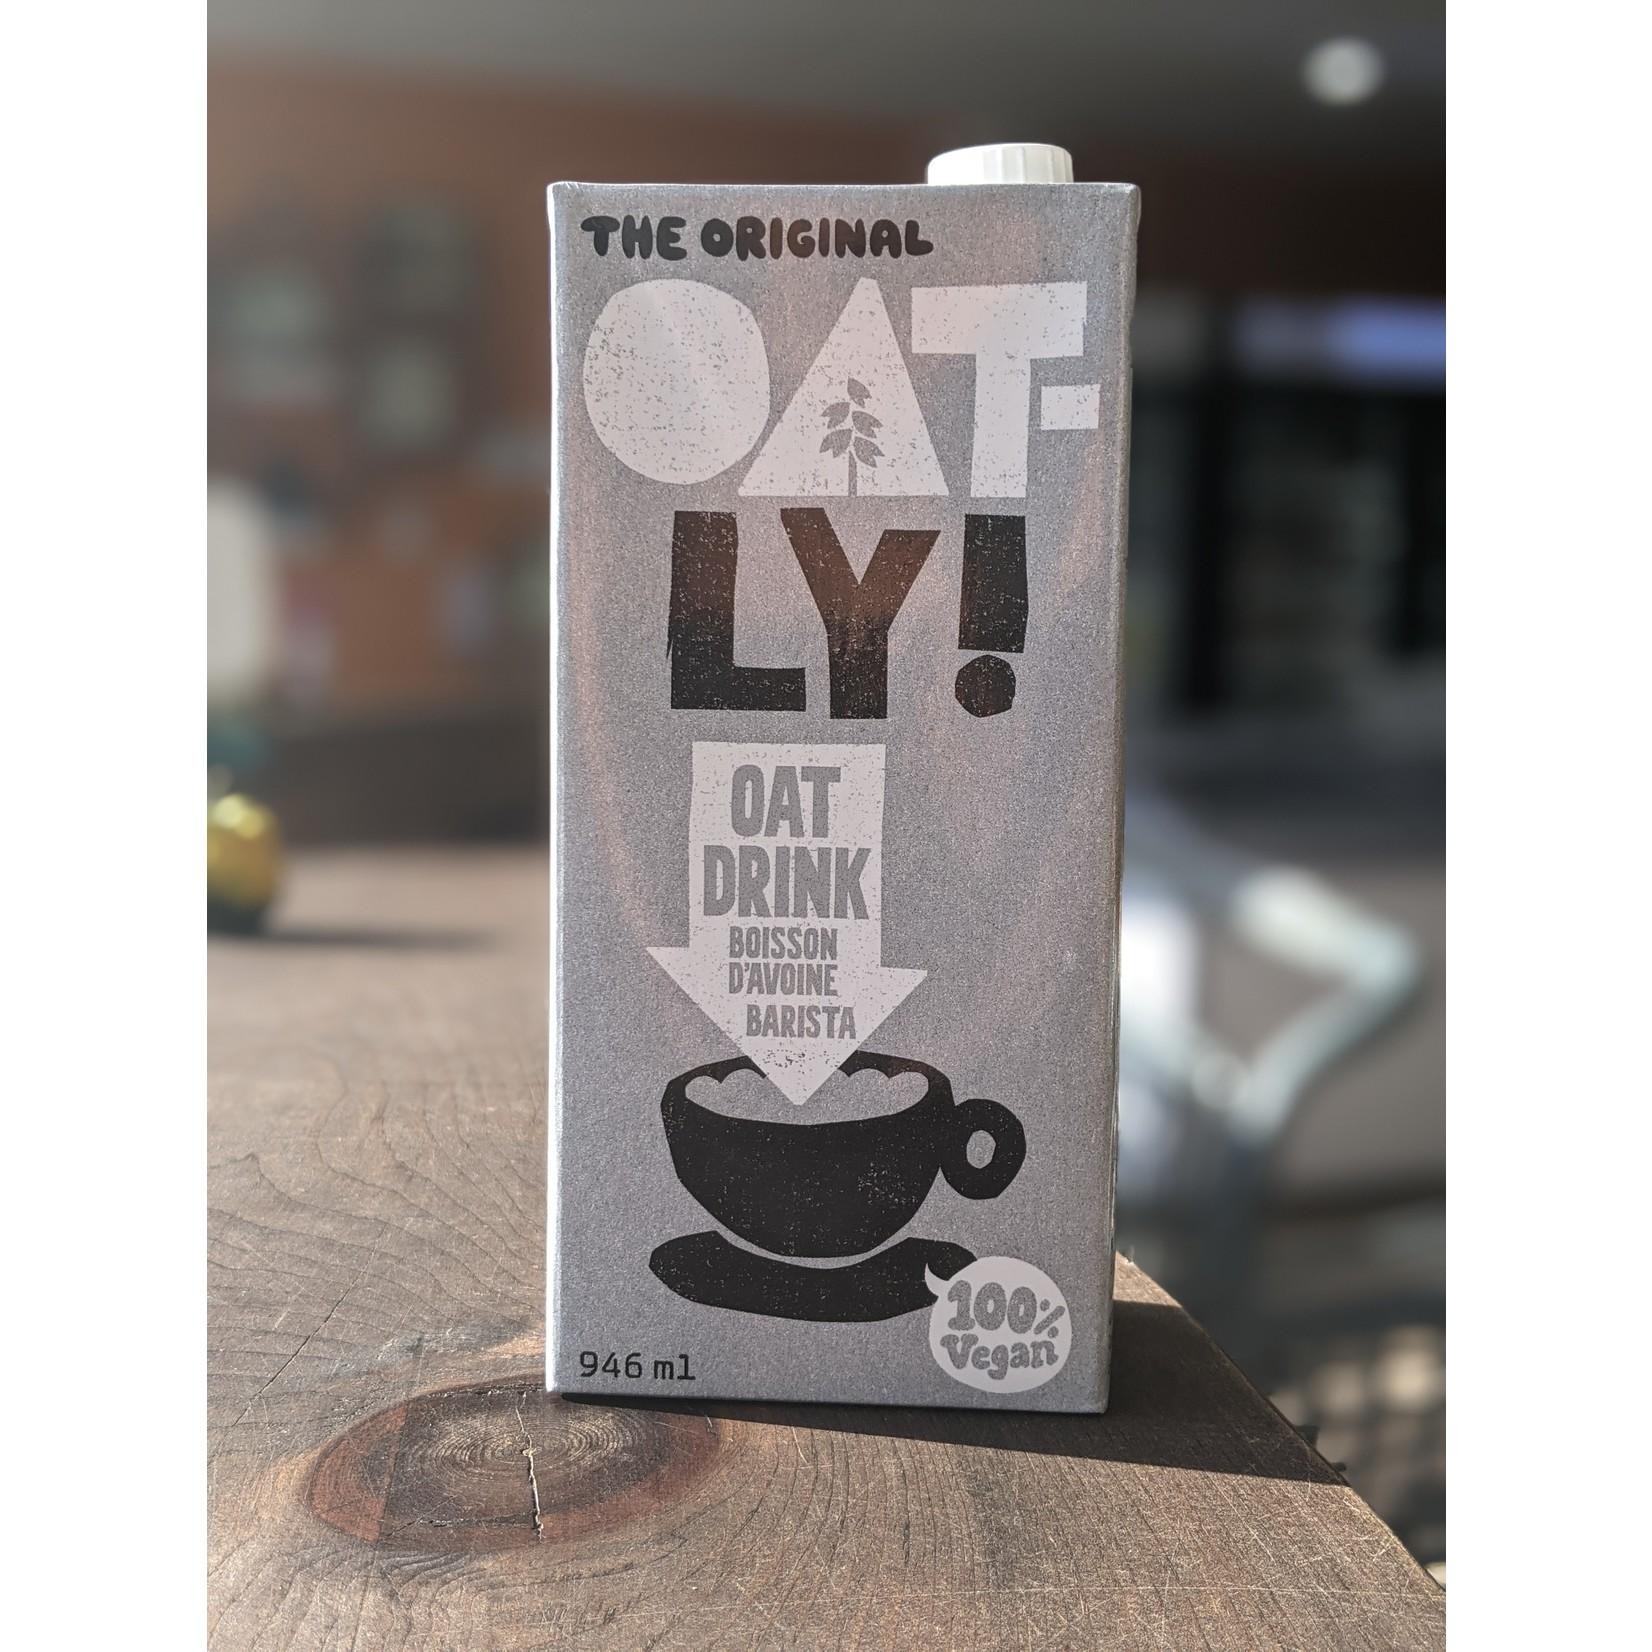cardboard: (510, 133, 1201, 1411)
